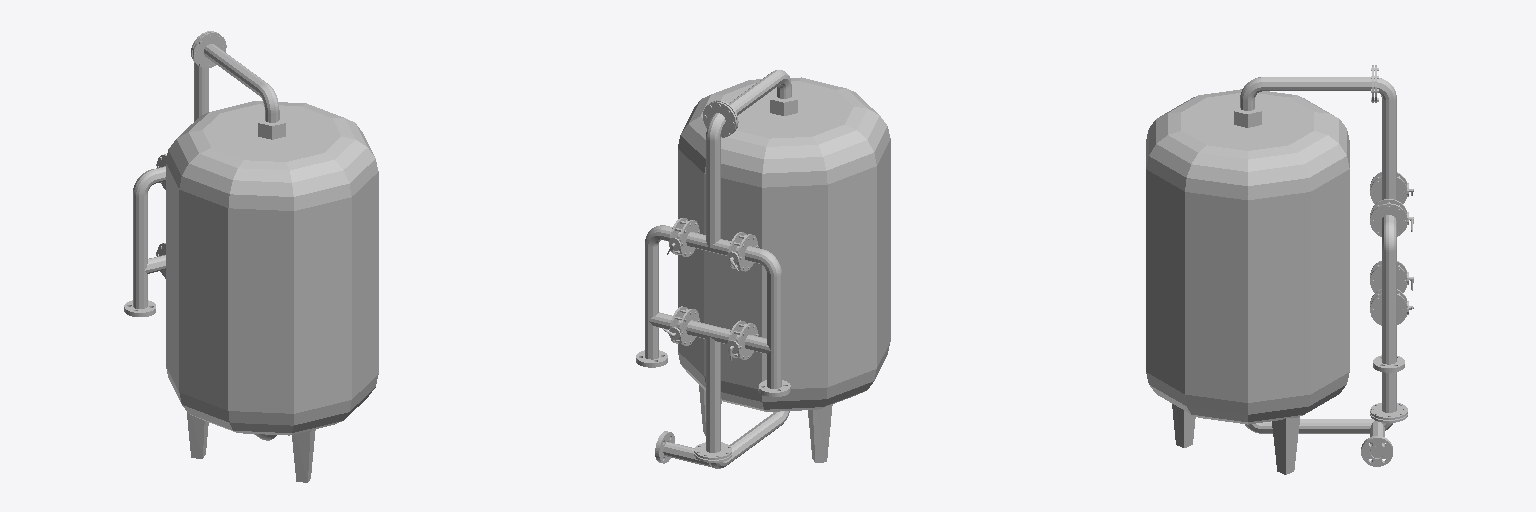
File: multimedium_system.obj
3 renders of one model, left to right at view 1: azimuth 30°, elevation 25°; view 2: azimuth 150°, elevation 25°; view 3: azimuth 270°, elevation 25°, orthographic.
Parts seen in each view (by area): view 1: __, __.1, __.5, __.4, __.2; view 2: __, __.1, __.2, __.4, __.3; view 3: __, __.1, __.3, __.5, __.2.
Part boxes in pixels (bbox=[...]): __: bbox=[124, 32, 378, 440]; __.1: bbox=[133, 35, 285, 308]; __.5: bbox=[292, 429, 315, 482]; __.4: bbox=[187, 412, 208, 458]; __.2: bbox=[134, 31, 218, 310]; __: bbox=[636, 70, 890, 468]; __.1: bbox=[645, 91, 797, 456]; __.2: bbox=[649, 101, 787, 462]; __.4: bbox=[639, 356, 832, 462]; __.3: bbox=[654, 360, 780, 467]; __: bbox=[1146, 65, 1407, 466]; __.1: bbox=[1234, 68, 1405, 462]; __.3: bbox=[1272, 357, 1397, 474]; __.5: bbox=[1172, 404, 1195, 447]; __.2: bbox=[1368, 65, 1407, 446].
Bounding box in the file's own units: 681 × 1325 × 852.